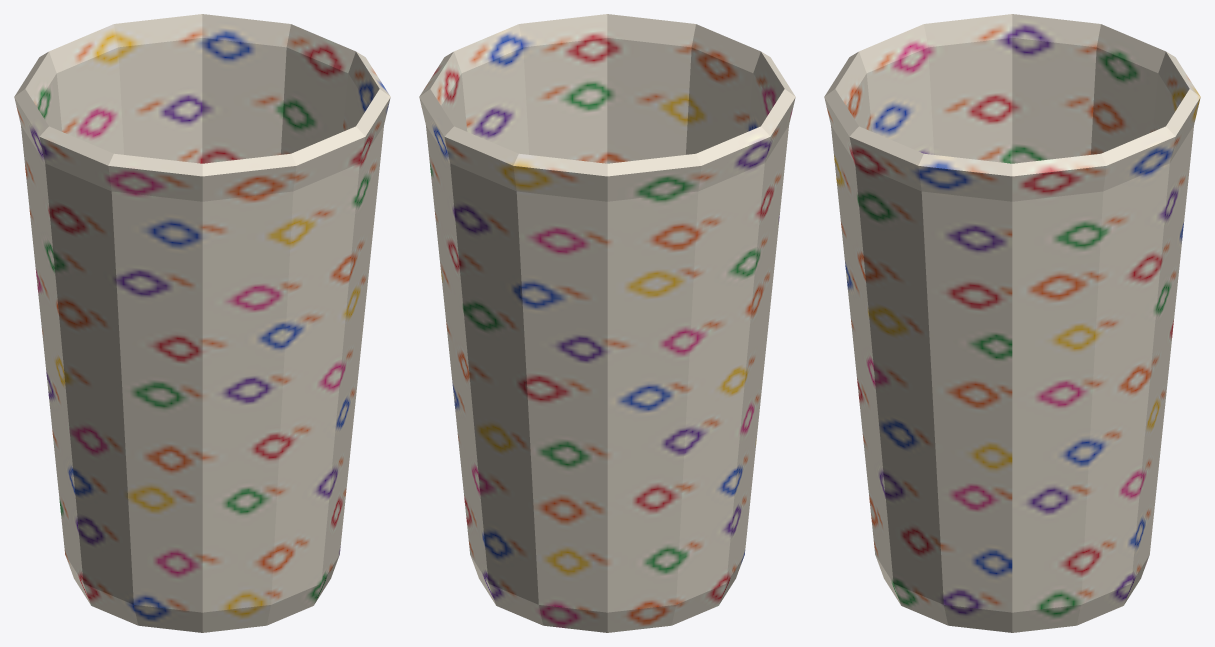
File: party_cup_geometric.glb
3 renders of one model, left to right at view 1: azimuth 30°, elevation 25°; view 2: azimuth 150°, elevation 25°; view 3: azimuth 270°, elevation 25°, orthographic.
Parts seen in each view (by area): view 1: party_cup_geometric_body; view 2: party_cup_geometric_body; view 3: party_cup_geometric_body.
Boxes of the visible parts, x1,y1,x2,y2 form: party_cup_geometric_body: [14, 14, 390, 632]; party_cup_geometric_body: [419, 14, 795, 632]; party_cup_geometric_body: [824, 14, 1200, 632].
Bounding box in the file's own units: 0.085 × 0.122 × 0.085.
1 material, 1 textured.
